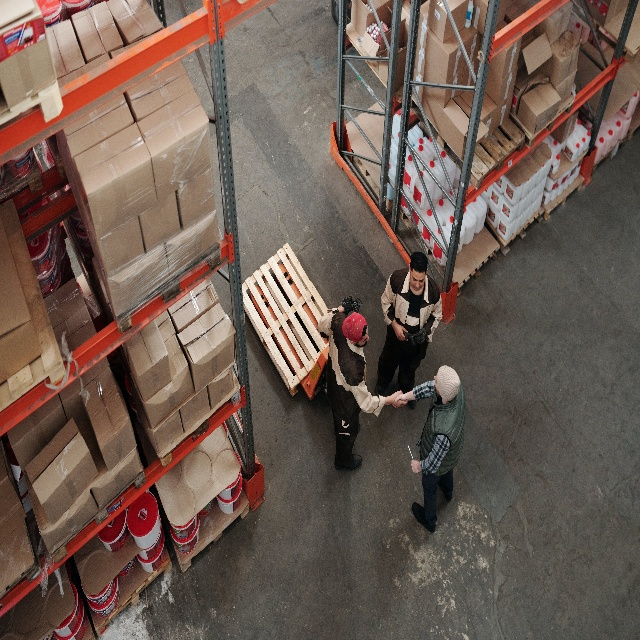Guantes: (339, 295, 356, 312), (414, 327, 427, 345), (350, 296, 363, 314), (403, 329, 415, 343)
Sin_guantes: (391, 390, 408, 408), (393, 324, 408, 342), (392, 394, 407, 408), (411, 457, 421, 473)
